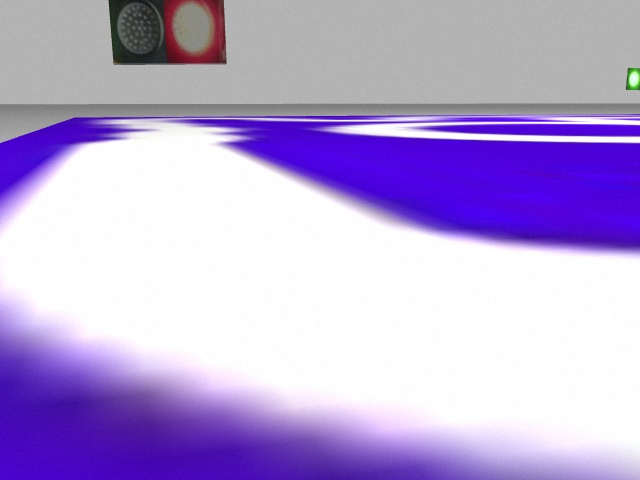red: (164, 2, 224, 62)
